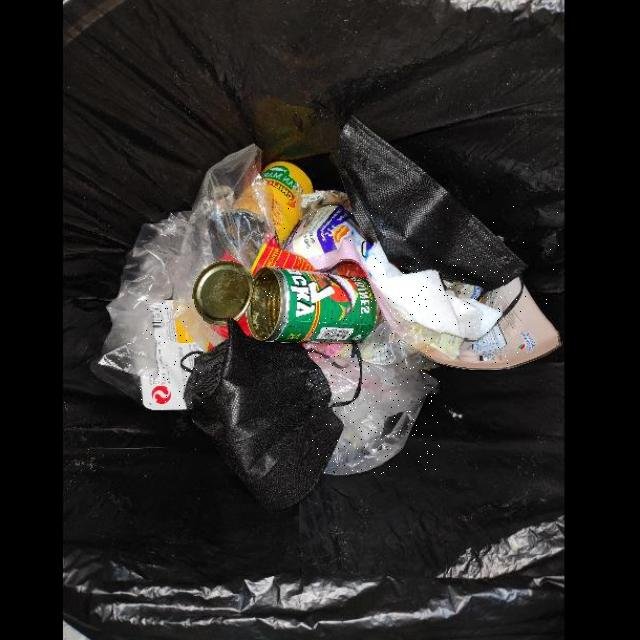metal: (193, 260, 381, 342)
paper: (366, 241, 504, 339)
plastic: (99, 142, 263, 375), (309, 315, 441, 475)
wrapper: (284, 203, 562, 370), (141, 299, 203, 410)
